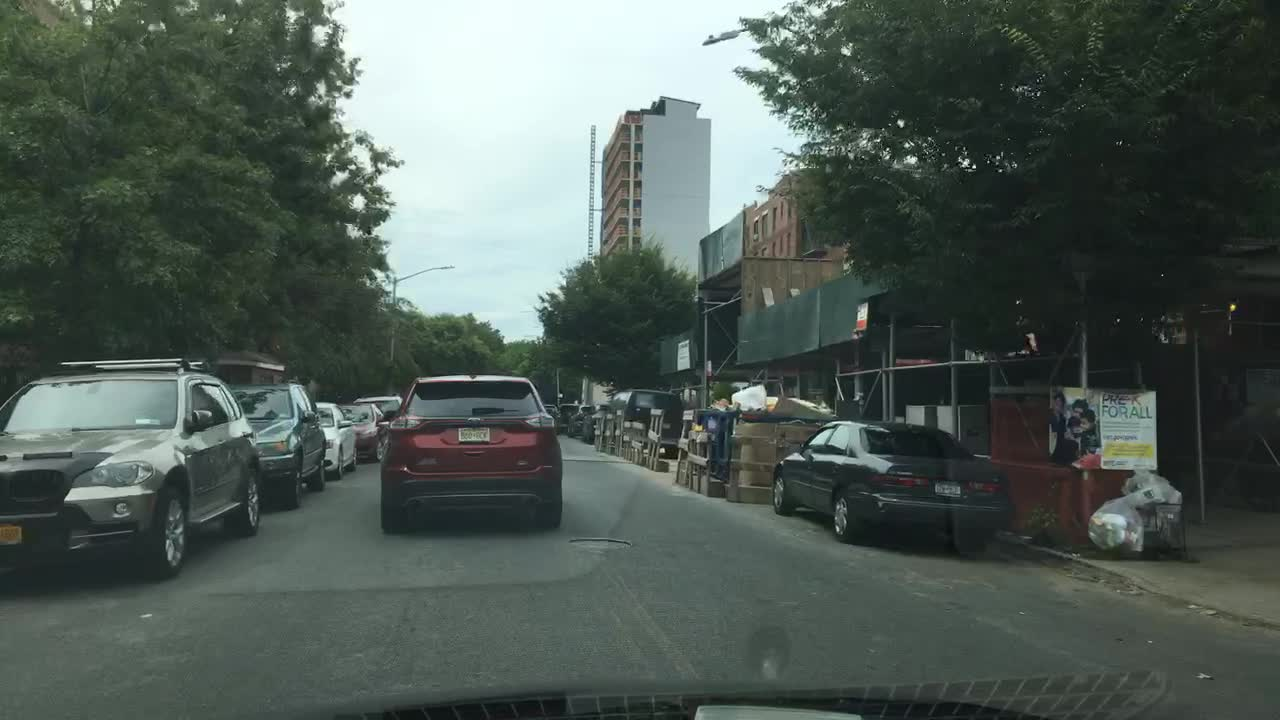car: (0, 357, 263, 581), (767, 420, 1023, 549), (375, 377, 567, 537), (225, 382, 328, 507), (606, 389, 683, 444), (313, 400, 358, 476), (340, 404, 390, 461), (355, 390, 402, 417), (583, 404, 613, 443), (566, 404, 595, 438), (557, 404, 580, 433), (545, 404, 559, 433)
traffic sign: (676, 345, 687, 371)
